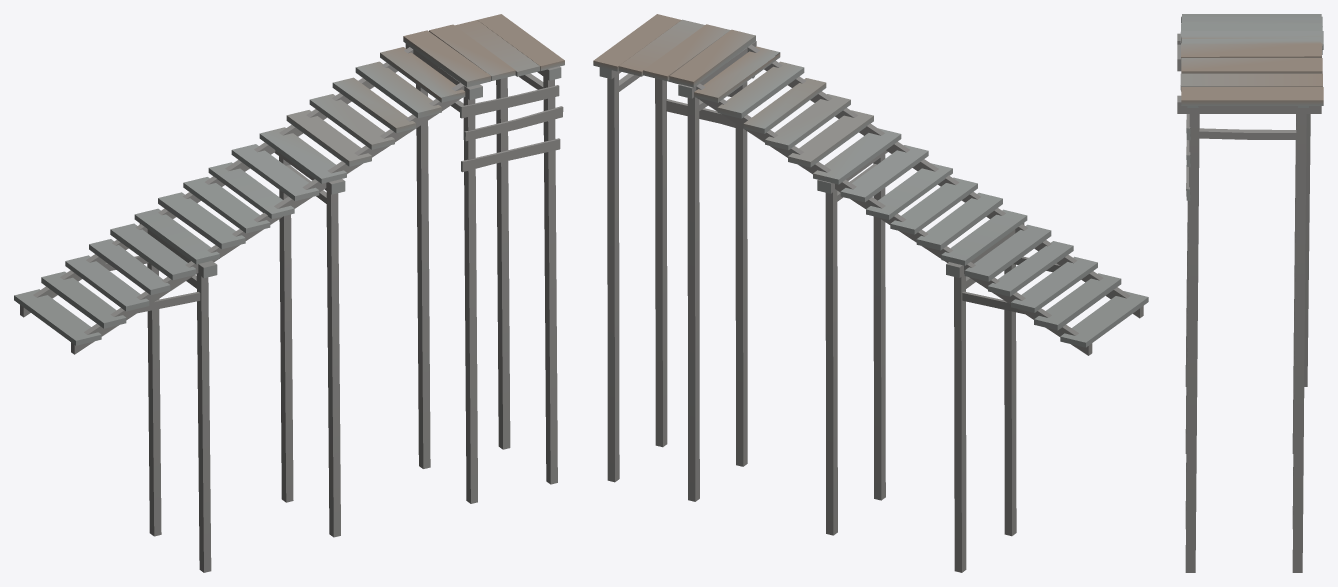
3 renders of one model, left to right at view 1: azimuth 30°, elevation 25°; view 2: azimuth 150°, elevation 25°; view 3: azimuth 270°, elevation 25°, orthographic. The views are drawn at different scales.
Parts seen in each view (by area): view 1: G:\FFXIV-MapTools\exports\s1f3\bg\ffxiv\sea_s1\fld\s1f3\bgpa (×3); view 2: G:\FFXIV-MapTools\exports\s1f3\bg\ffxiv\sea_s1\fld\s1f3\bgpa (×3); view 3: G:\FFXIV-MapTools\exports\s1f3\bg\ffxiv\sea_s1\fld\s1f3\bgpa (×2).
Boxes of the visible parts, x1,y1,x2,y2 form: G:\FFXIV-MapTools\exports\s1f3\bg\ffxiv\sea_s1\fld\s1f3\bgpa (×3): [14, 14, 564, 572]; G:\FFXIV-MapTools\exports\s1f3\bg\ffxiv\sea_s1\fld\s1f3\bgpa (×3): [593, 14, 1148, 572]; G:\FFXIV-MapTools\exports\s1f3\bg\ffxiv\sea_s1\fld\s1f3\bgpa (×2): [1177, 14, 1323, 572].
Size of the model in its own units: 16.98 by 14.23 by 3.92.
